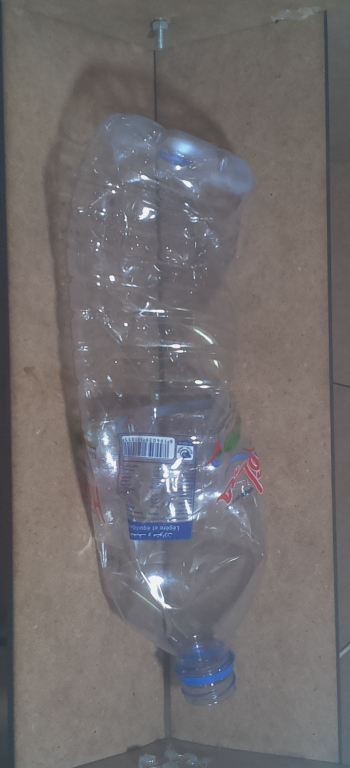Bouteille_1.5L: (59, 112, 276, 711)
